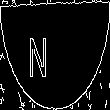N_N: (45, 29, 65, 81)
